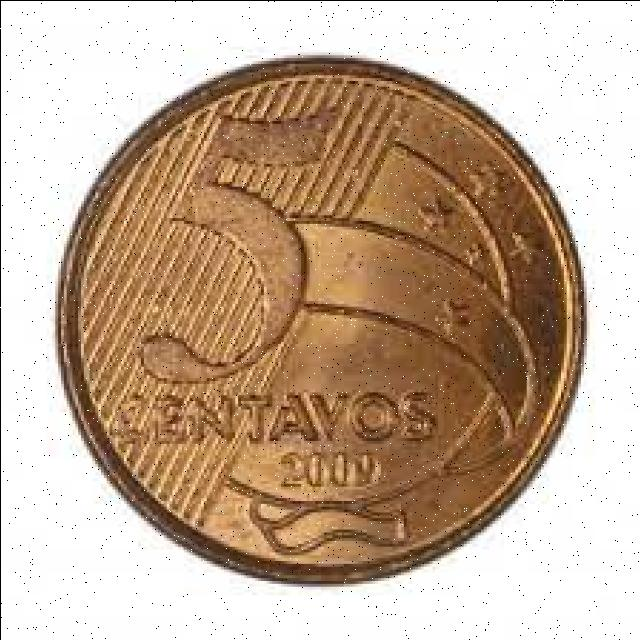5 cent: (60, 47, 578, 563)
